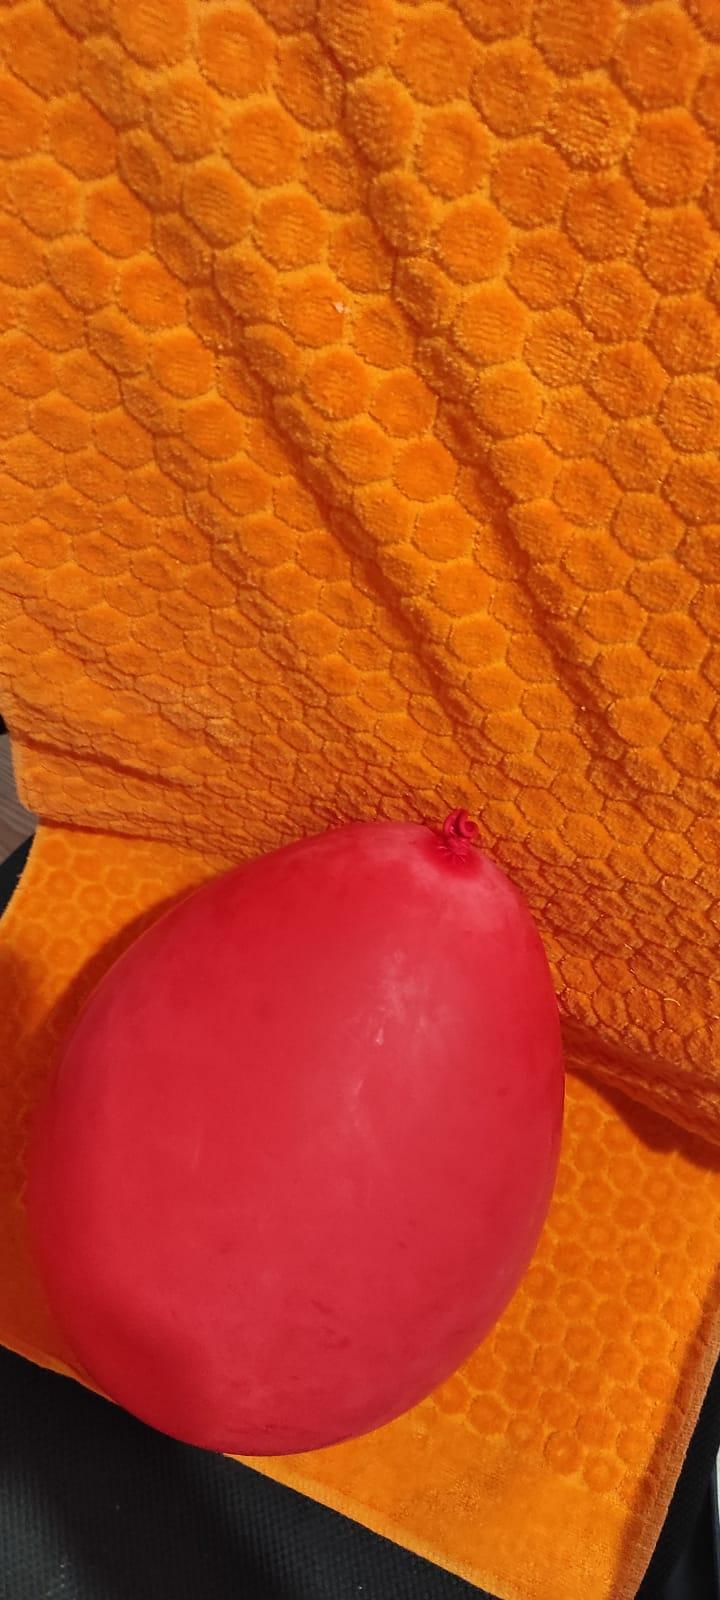red: (1, 797, 562, 1458)
